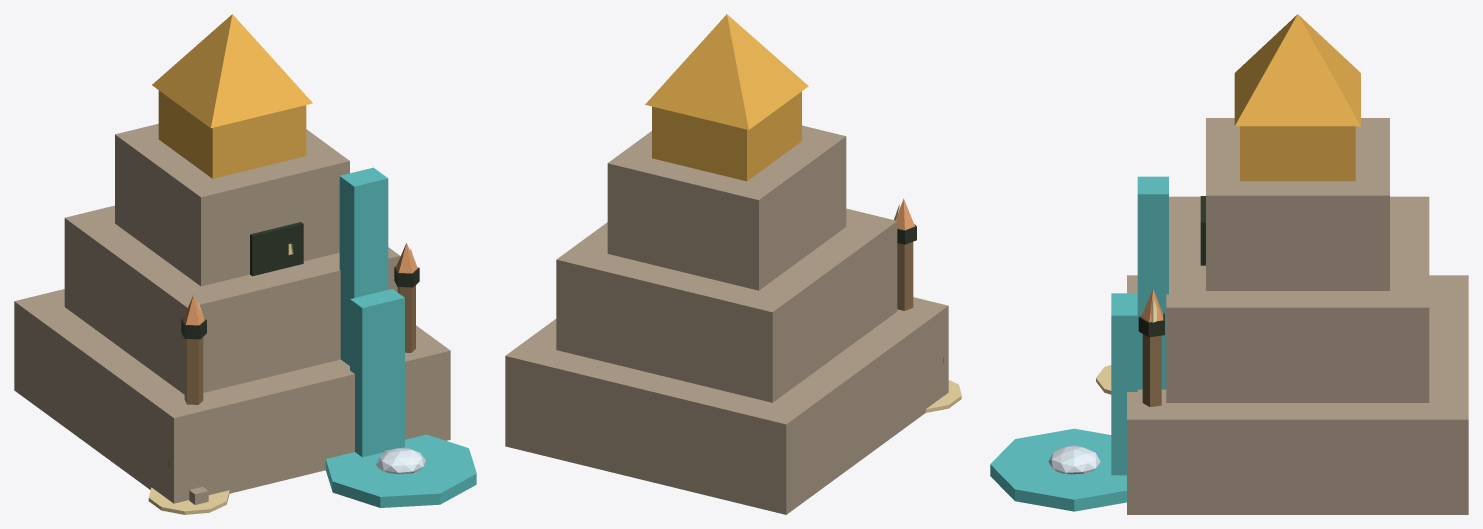
File: jungle-landmark-s3.glb
3 views of the same model, side by side, from view 1: azimuth 30°, elevation 25°; view 2: azimuth 150°, elevation 25°; view 3: azimuth 270°, elevation 25° (orthographic). The views are drawn at different scales.
Visible parts, largest first — view 1: jungle-landmark-s3; view 2: jungle-landmark-s3; view 3: jungle-landmark-s3.
Boxes of the visible parts, box(x1,y1,x2,y2) form: jungle-landmark-s3: box(14, 14, 476, 514); jungle-landmark-s3: box(505, 14, 961, 514); jungle-landmark-s3: box(990, 14, 1468, 514).
Size of the model in its own units: 1.36 by 1.8 by 1.82.
